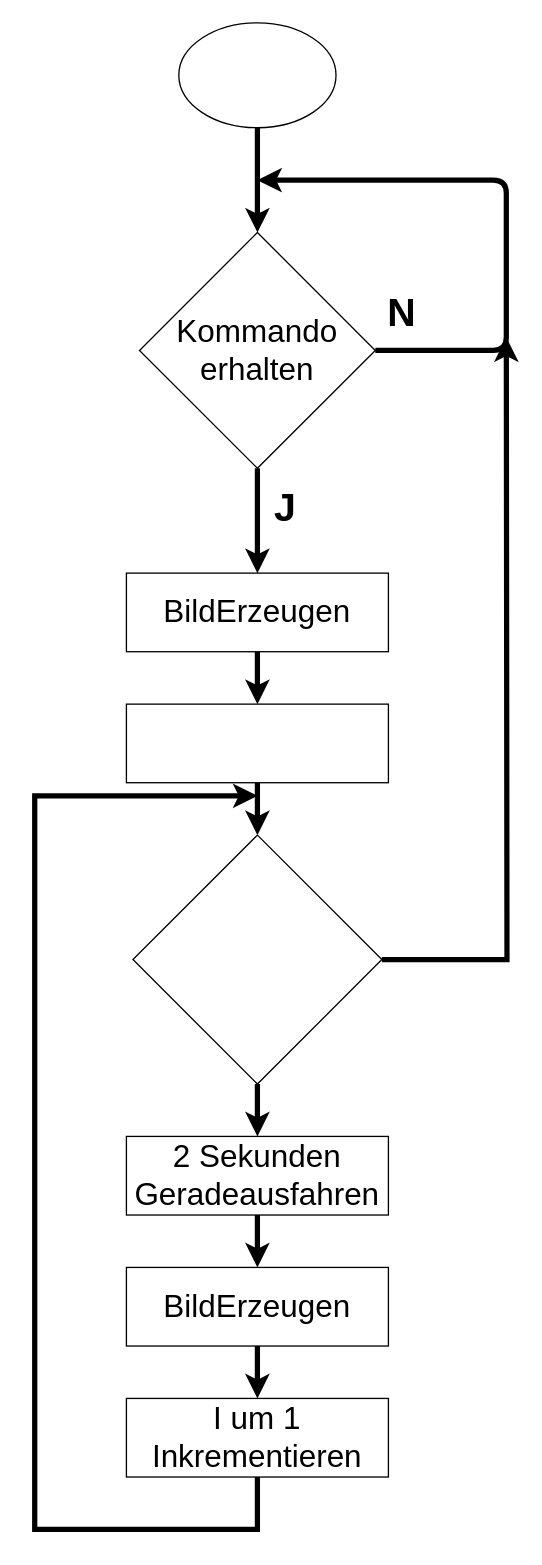
Some shapes in this 542 by 1565 pixel diagram are drawn without their labels. Here are the shapes that lost their labels. From the top down, the centre of each, then its label:
the point at 257,75: Start
the point at 256,743: I = 0
the point at 257,959: I < 3
